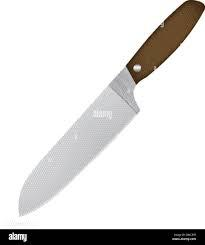Knife: (17, 0, 204, 216)
